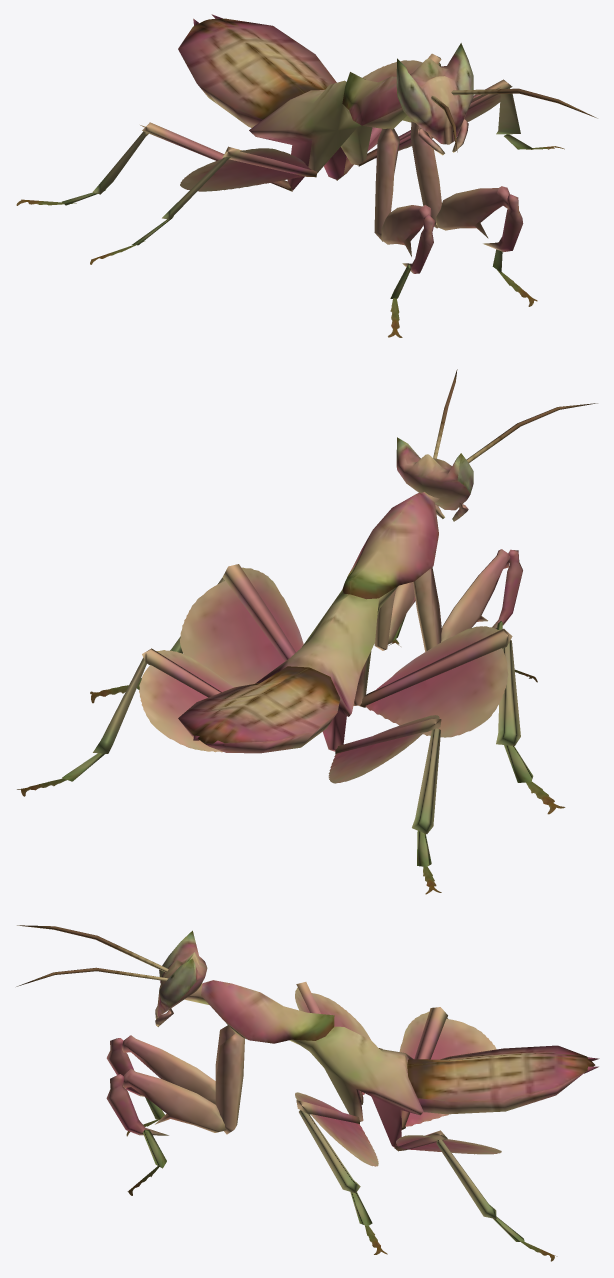
Rendered from orchid-mantis.glb.
The picture shows the model from 3 angles, top to bottom: view 1: azimuth 30°, elevation 25°; view 2: azimuth 150°, elevation 25°; view 3: azimuth 270°, elevation 25°; orthographic projection. The views are drawn at different scales.
Size of the model in its own units: 4.39 by 2.21 by 5.18.
1 material, 1 textured.
